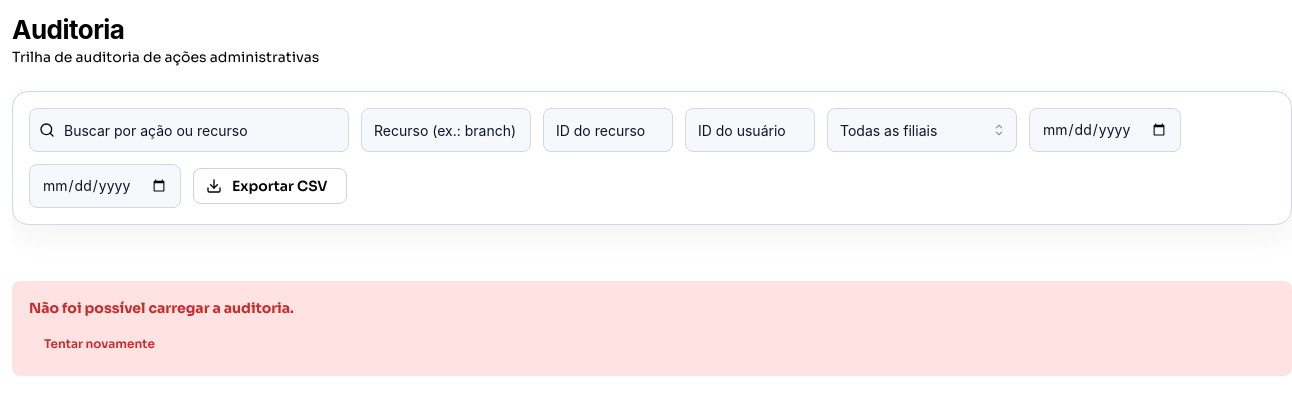
Test: Auditoria states › error, then retry recovers
Check: the text "Não foi possível carregar a auditoria." is shown, box x1=29 y1=298 x2=294 y2=319
Click the button "Tentar novamente".
click(99, 344)  # box x1=29 y1=329 x2=170 y2=359
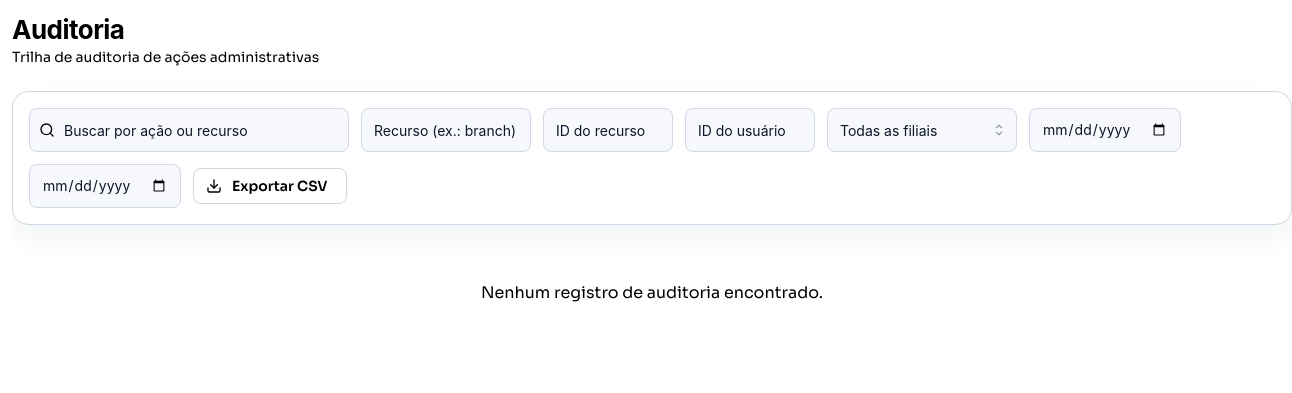
Check: the text "carregar a auditoria" is gone
Check: the text "Nenhum registro de auditoria encontrado." is shown, box x1=481 y1=282 x2=823 y2=303
